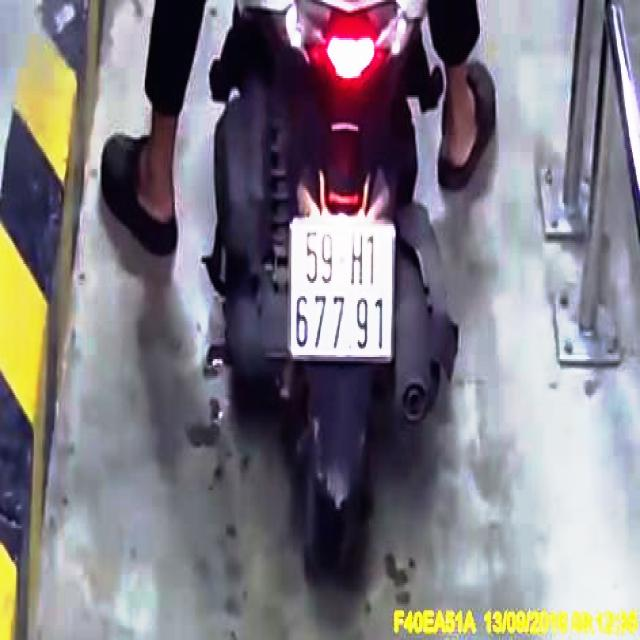license_plate: (290, 220, 397, 359)
